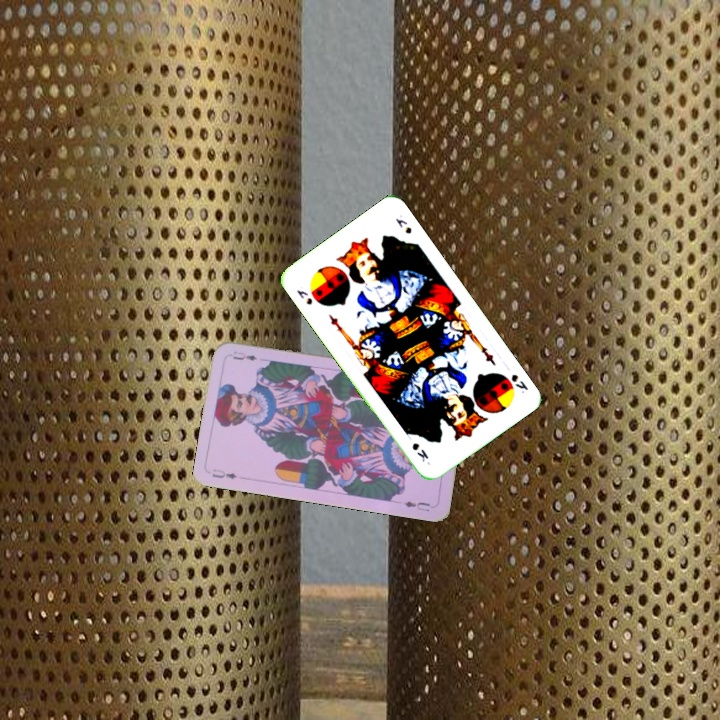EU: (208, 465, 239, 481)
SK: (507, 370, 531, 396), (292, 286, 315, 307)
